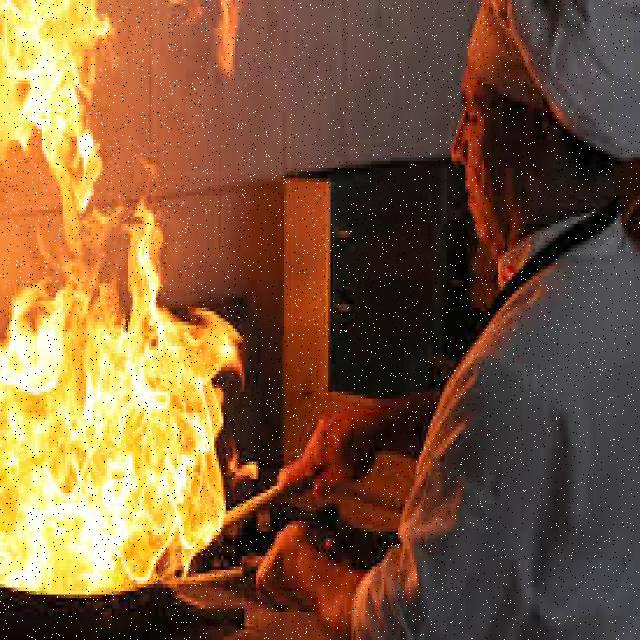fire: (4, 233, 244, 589), (2, 0, 116, 208)
